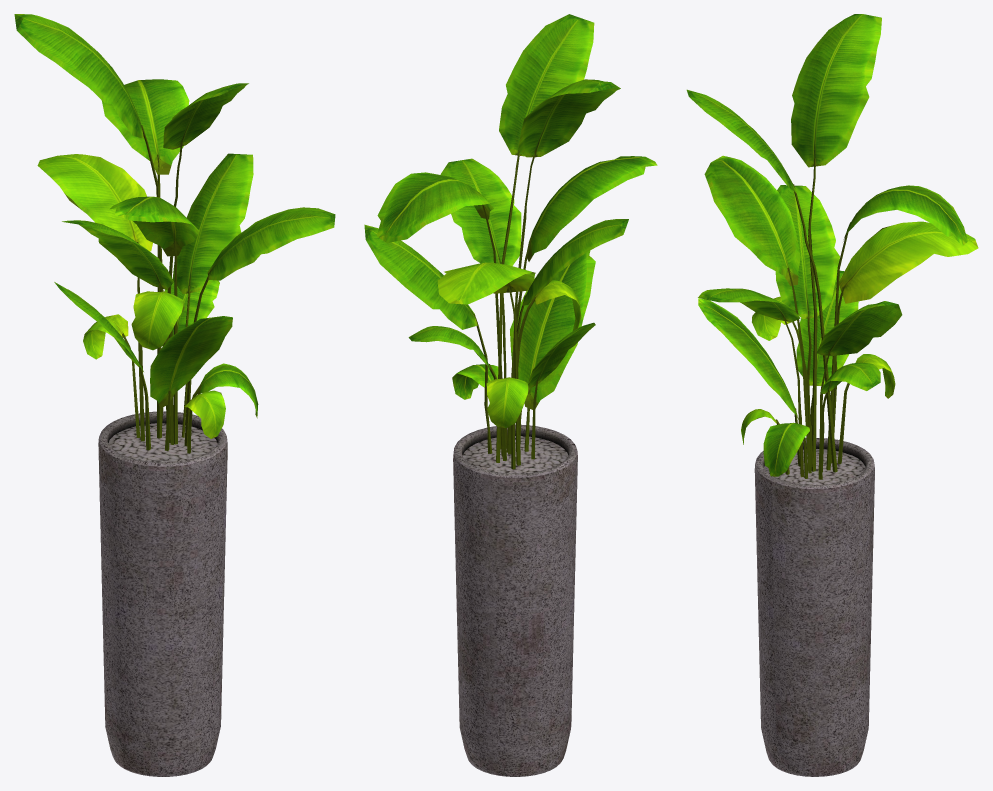
Rendered from Plant.glb.
3 views of the same model, side by side, from view 1: azimuth 30°, elevation 25°; view 2: azimuth 150°, elevation 25°; view 3: azimuth 270°, elevation 25° (orthographic). The views are drawn at different scales.
Visible parts, largest first — view 1: plant.001, pot.001, ground.001; view 2: plant.001, pot.001, ground.001; view 3: plant.001, pot.001, ground.001.
Part boxes in pixels (x1=…): plant.001: x1=14, y1=14, x2=335, y2=453; pot.001: x1=98, y1=411, x2=227, y2=776; ground.001: x1=108, y1=423, x2=217, y2=462; plant.001: x1=364, y1=14, x2=657, y2=469; pot.001: x1=453, y1=424, x2=577, y2=776; ground.001: x1=462, y1=436, x2=568, y2=473; plant.001: x1=686, y1=14, x2=978, y2=479; pot.001: x1=754, y1=438, x2=874, y2=776; ground.001: x1=764, y1=449, x2=865, y2=484.
Bounding box in the file's own units: 0.4326 × 1.24 × 0.4747.
Materials: 2 (2 with a texture image).
